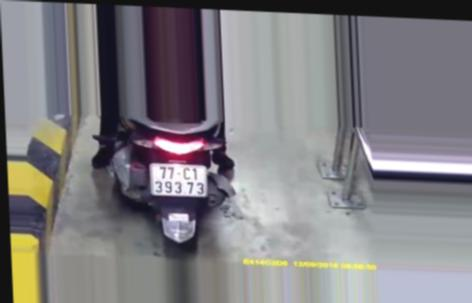License_Plate: (148, 160, 210, 202)
